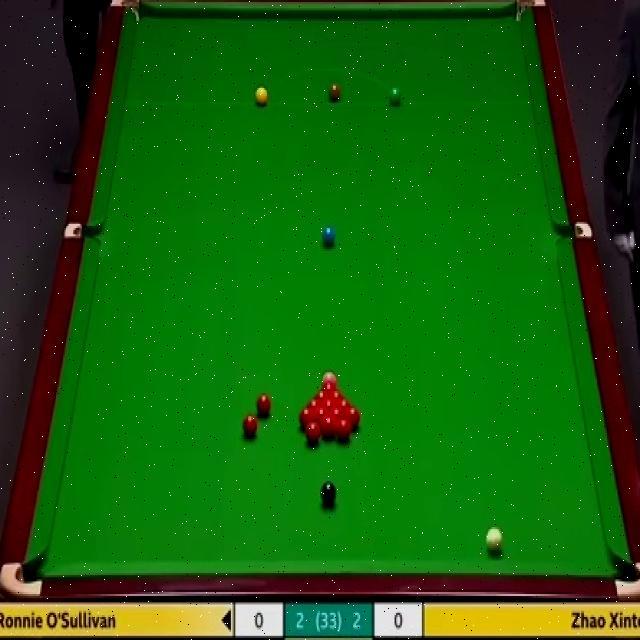black-ball: (319, 478, 336, 508)
blue-ball: (323, 226, 336, 249)
brown-ball: (328, 84, 340, 103)
green-ball: (389, 86, 401, 106)
pink-ball: (321, 367, 337, 385)
red-ball: (255, 392, 274, 418), (304, 422, 321, 447), (321, 416, 336, 440), (344, 407, 361, 428), (242, 413, 257, 436), (299, 407, 314, 429), (337, 420, 352, 442), (314, 406, 329, 423), (330, 408, 344, 426), (327, 391, 346, 402), (336, 399, 353, 410), (320, 381, 337, 391), (321, 400, 337, 410), (312, 391, 328, 401), (307, 400, 321, 410)
white-ball: (485, 528, 502, 552)
yellow-ball: (254, 85, 269, 106)
